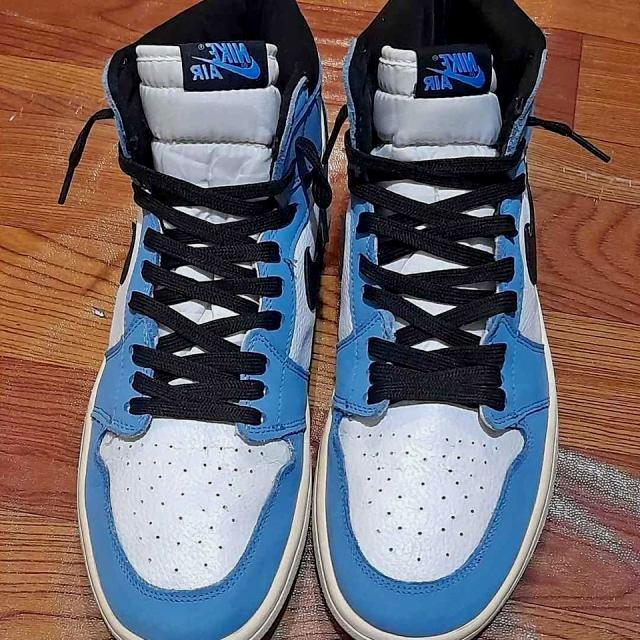nike_fake_jordan: (73, 3, 328, 640), (314, 0, 560, 640)
